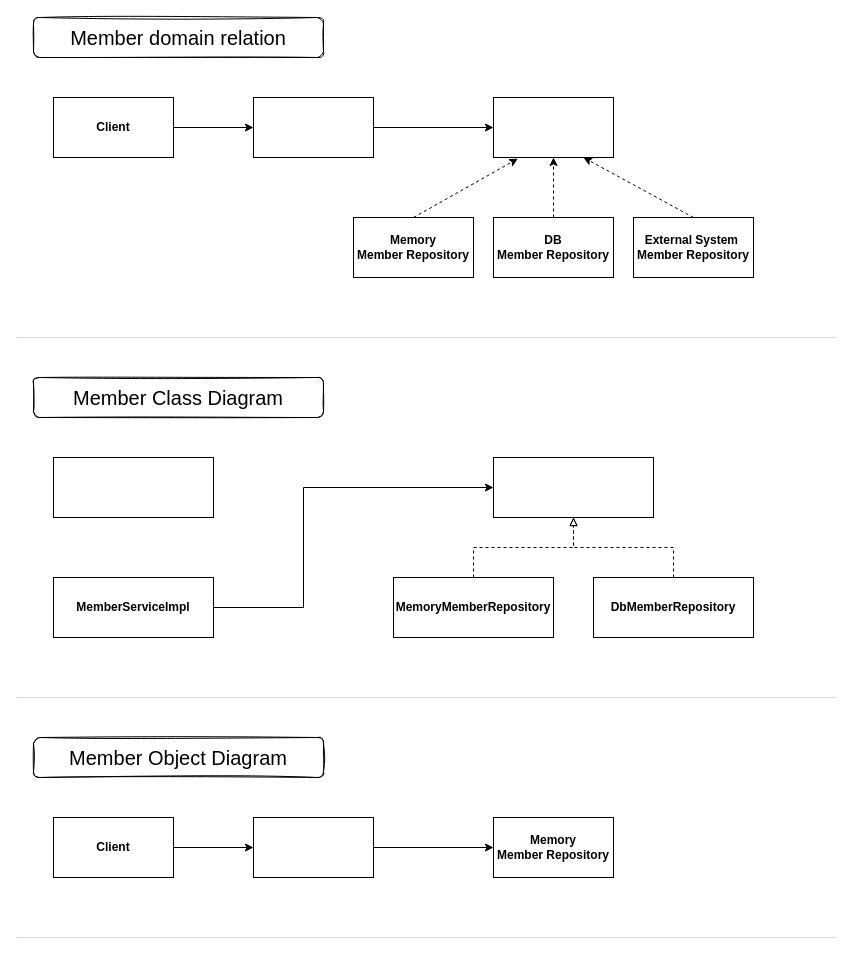
Some shapes in this 856 by 956 pixel diagram are drawn without their labels. The shapes that lost their labels are listed below. From the top down, each one's box as (x1, y1, x2, y2) in pixels, then its label:
(252, 96, 374, 158): Member Service - Sign-in - Member list
(492, 96, 614, 158): Member Repository
(52, 456, 214, 518): <<interface>> MemberService
(492, 456, 654, 518): <<interface>> MemberRepository
(252, 816, 374, 878): Member Service
